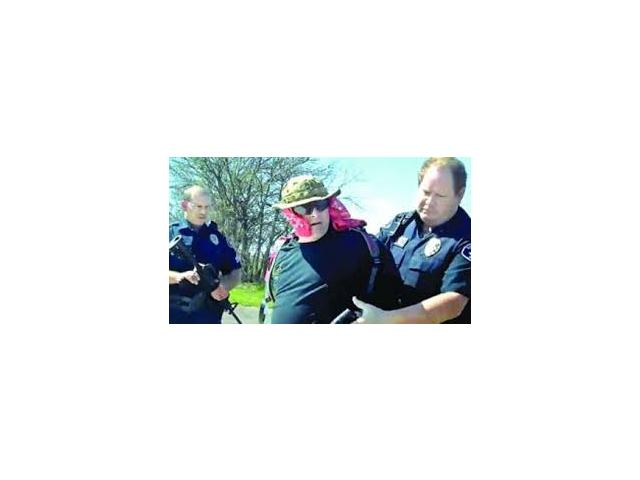rifle: (168, 237, 242, 324)
